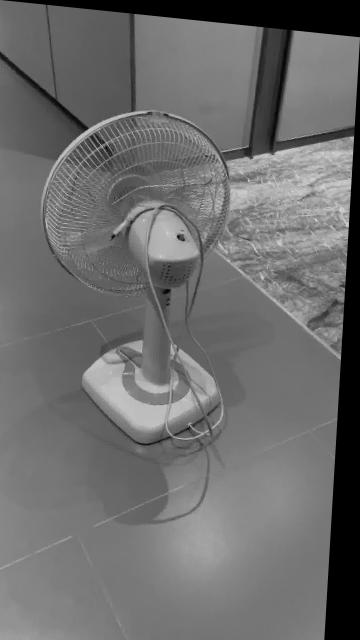Fan: (43, 108, 232, 443)
